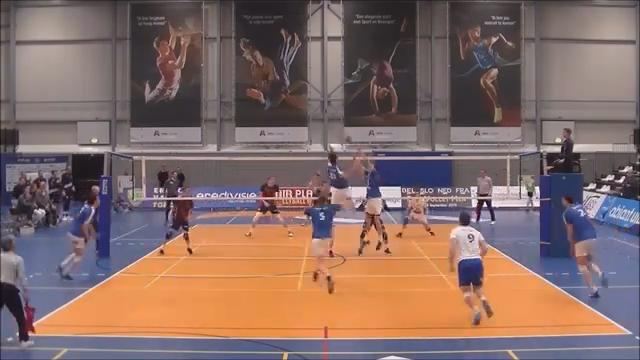alzata: (352, 149, 386, 253)
attacco: (318, 142, 368, 219)
